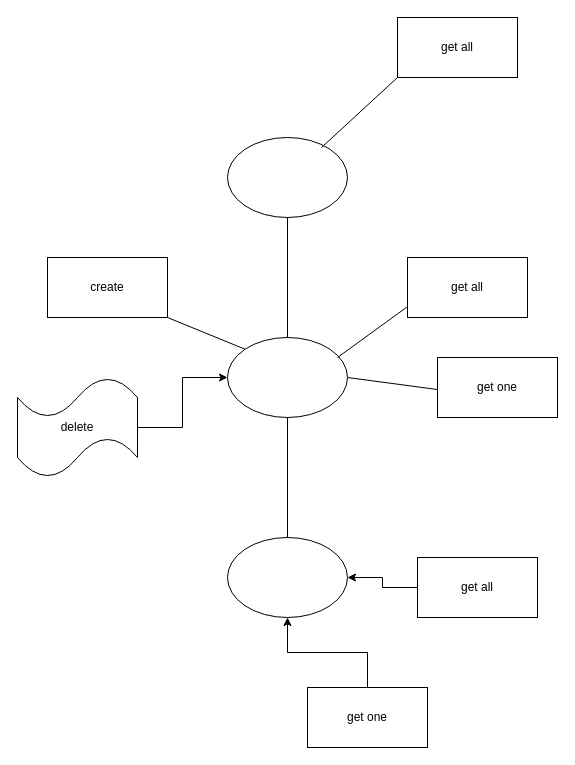
The diagram is 575 pixels wide and 765 high, and some of its shapes have lost their labels. Each missing label, with the box of its shape:
Components: (226, 536, 348, 618)
Product: (226, 336, 348, 418)
user (shopping cart): (226, 136, 348, 218)
